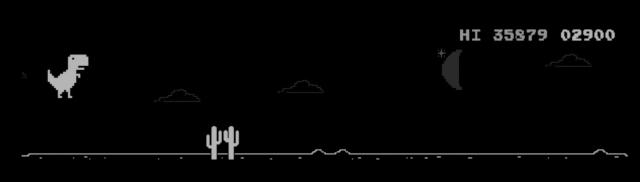cactus: (207, 126, 222, 159), (224, 127, 239, 159)
